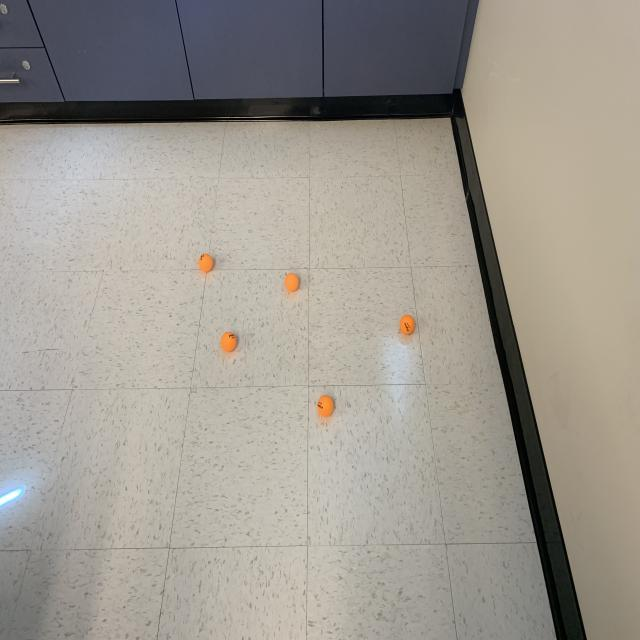ping-pong-ball: (316, 393, 335, 418), (218, 330, 238, 353), (398, 313, 416, 337), (198, 250, 214, 274), (284, 271, 300, 293)
